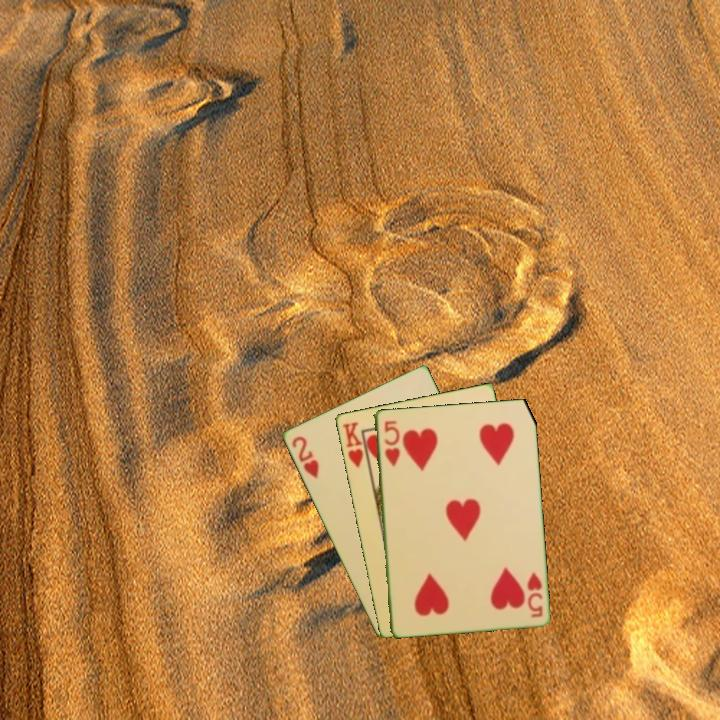2h: (288, 432, 321, 481)
5h: (523, 568, 545, 620), (381, 417, 402, 469)
Kh: (339, 418, 371, 471)
